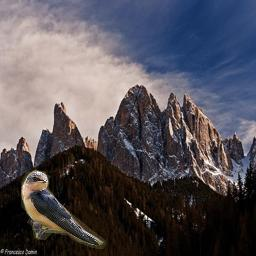Swallow: (21, 167, 107, 249)
